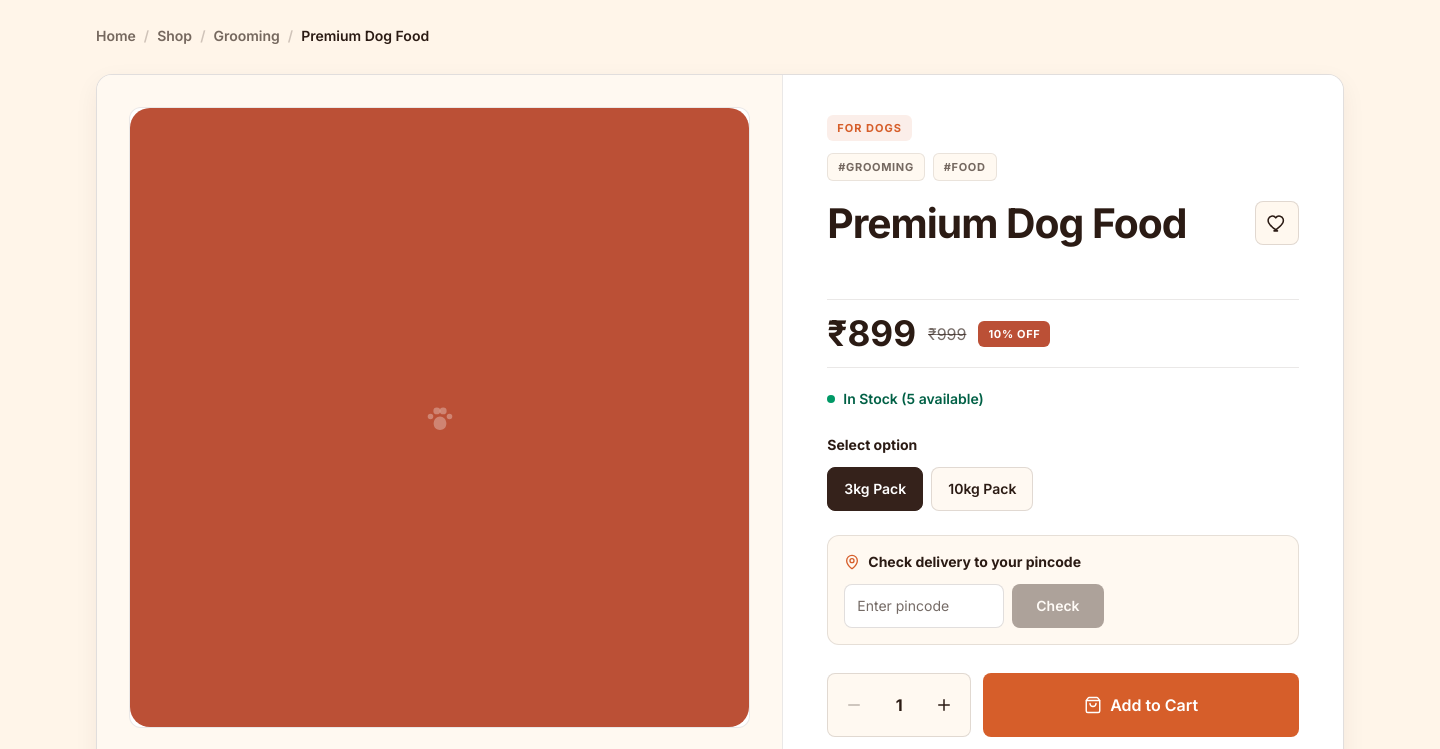
Test: ProductDetail Storefront Component › 6. Variant Cart payload has correct variantId
The width and height of the screenshot is (1440, 749).
Click the button "10kg Pack": click(982, 489) 931,467 -> 1033,511
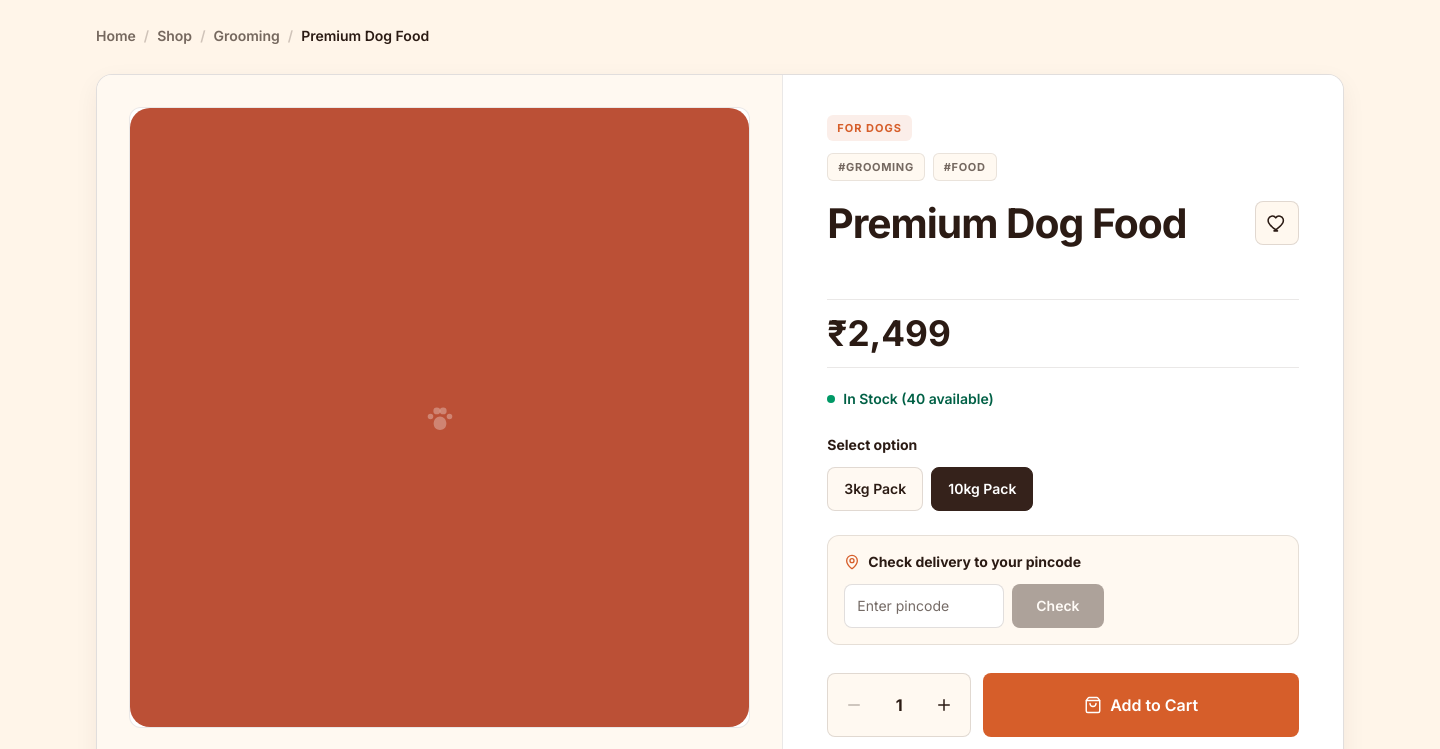
Click the button "Add to Cart": click(1141, 705) 983,673 -> 1299,737
(page scrolled)
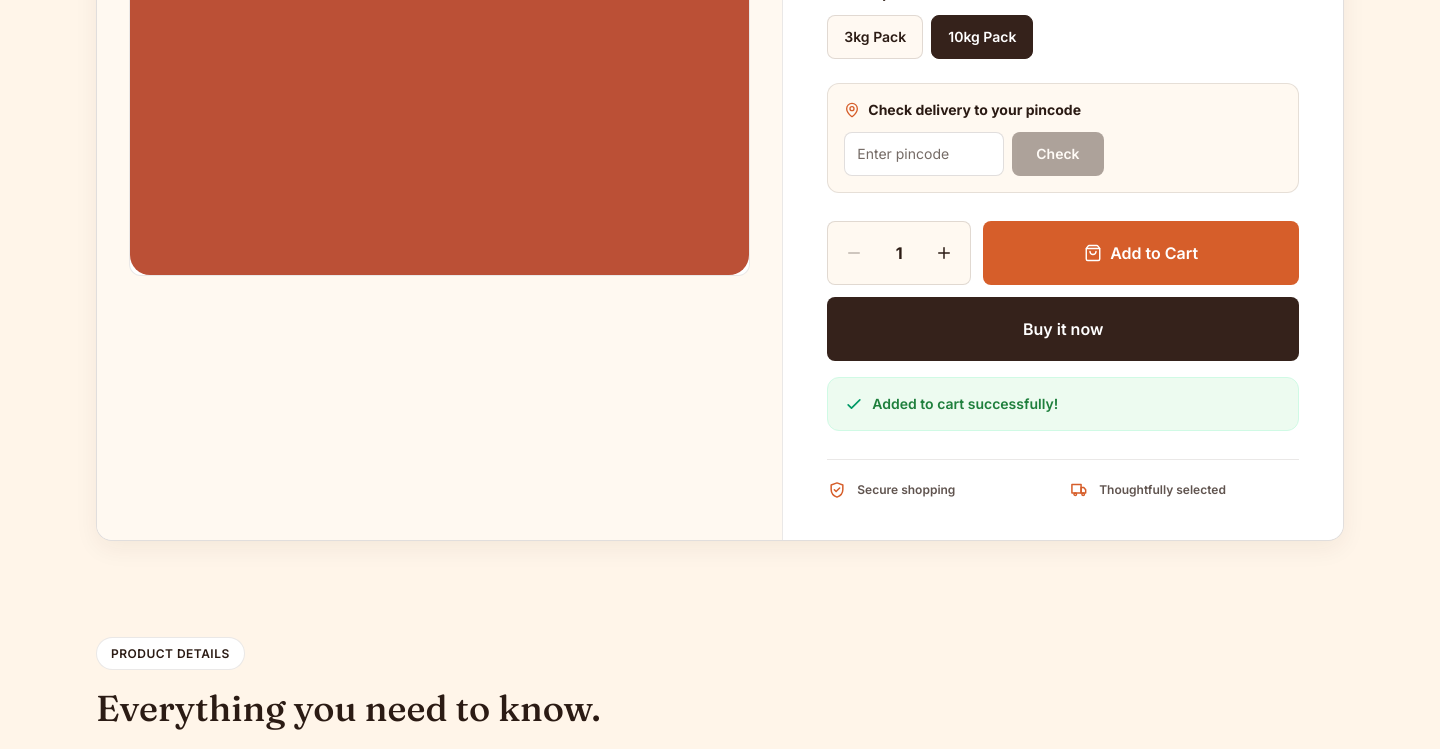
Check: the text "Added to cart successfully!" is shown, box 827,377 -> 1299,431
